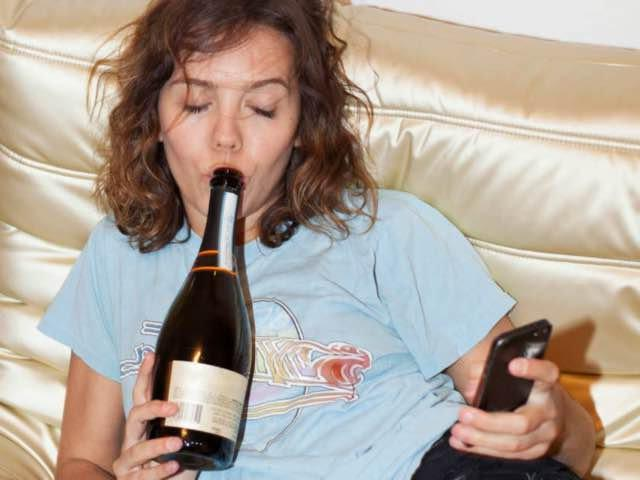Drunk: (161, 44, 293, 217)
